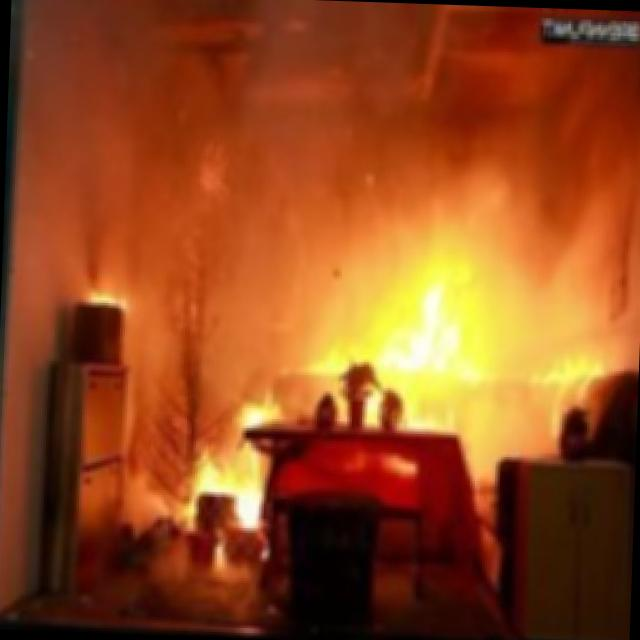fire: (107, 130, 640, 548)
